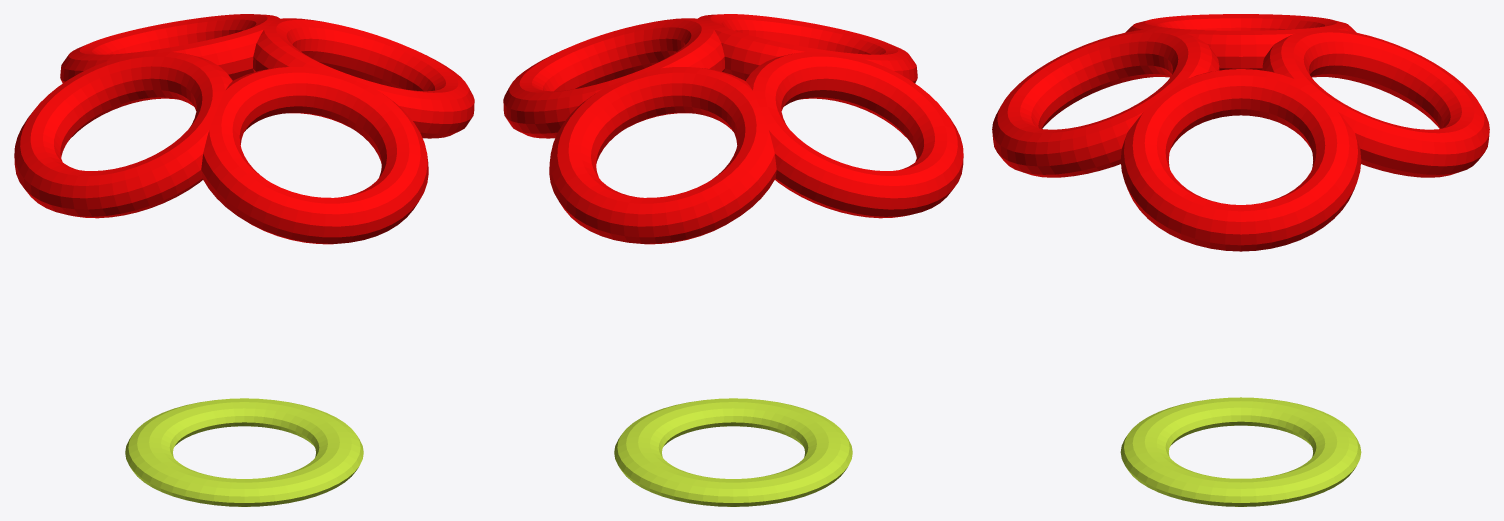
Rendered from orbit_80_4.glb.
The picture shows the model from 3 angles, left to right: view 1: azimuth 30°, elevation 25°; view 2: azimuth 150°, elevation 25°; view 3: azimuth 270°, elevation 25°; orthographic projection.
Visible parts, largest first — view 1: Torus.016, Torus.014, Torus, Torus.015, Torus.017; view 2: Torus.017, Torus.014, Torus, Torus.015, Torus.016; view 3: Torus.015, Torus.017, Torus.016, Torus, Torus.014.
Part boxes in pixels (box(x1,y1,x2,y2)): Torus.016: box(201, 67, 428, 244); Torus.014: box(14, 52, 232, 218); Torus: box(125, 398, 363, 506); Torus.015: box(253, 18, 474, 138); Torus.017: box(60, 14, 279, 83); Torus.017: box(549, 67, 776, 244); Torus.014: box(745, 52, 963, 218); Torus: box(614, 398, 852, 506); Torus.015: box(503, 18, 724, 138); Torus.016: box(698, 14, 917, 83); Torus.015: box(1120, 69, 1361, 251); Torus.017: box(1262, 29, 1489, 177); Torus.016: box(992, 29, 1219, 177); Torus: box(1120, 397, 1361, 506); Torus.014: box(1125, 14, 1356, 70).
Size of the model in its own units: 1.29 by 1.18 by 1.29.
5 materials, 4 textured.
